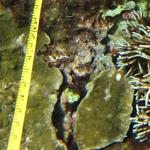dead: (1, 1, 147, 145)
